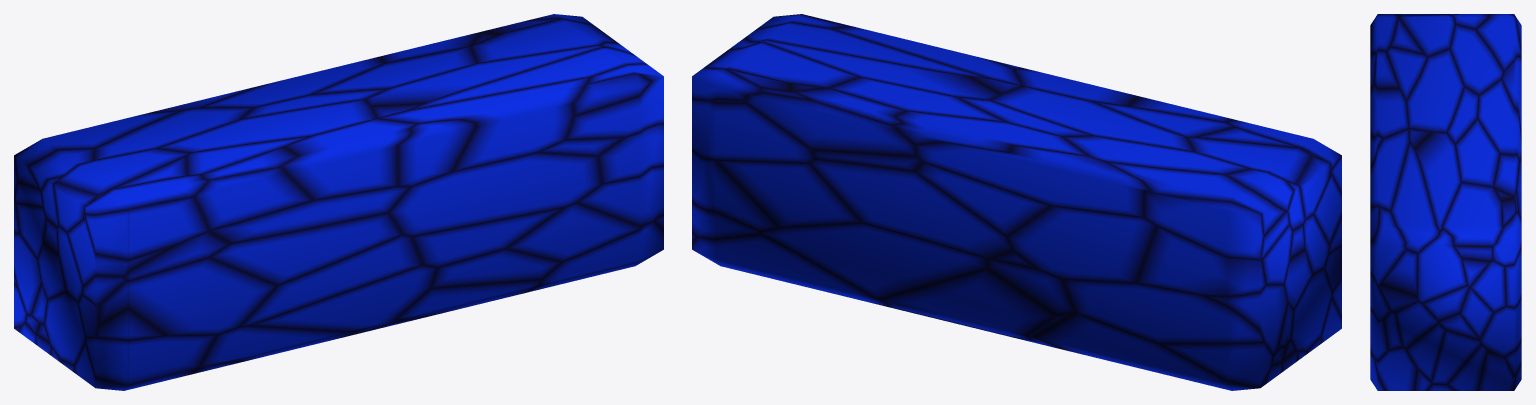
File: Brick_03_2hit.obj
3 renders of one model, left to right at view 1: azimuth 30°, elevation 25°; view 2: azimuth 150°, elevation 25°; view 3: azimuth 270°, elevation 25°, orthographic. The views are drawn at different scales.
Visible parts, largest first — view 1: Cube_Paddle; view 2: Cube_Paddle; view 3: Cube_Paddle.
Part boxes in pixels (x1=…): Cube_Paddle: x1=14, y1=14, x2=663, y2=390; Cube_Paddle: x1=692, y1=14, x2=1341, y2=390; Cube_Paddle: x1=1370, y1=14, x2=1521, y2=390.
Bounding box in the file's own units: 7.25 × 2.34 × 2.
1 material, 1 textured.
